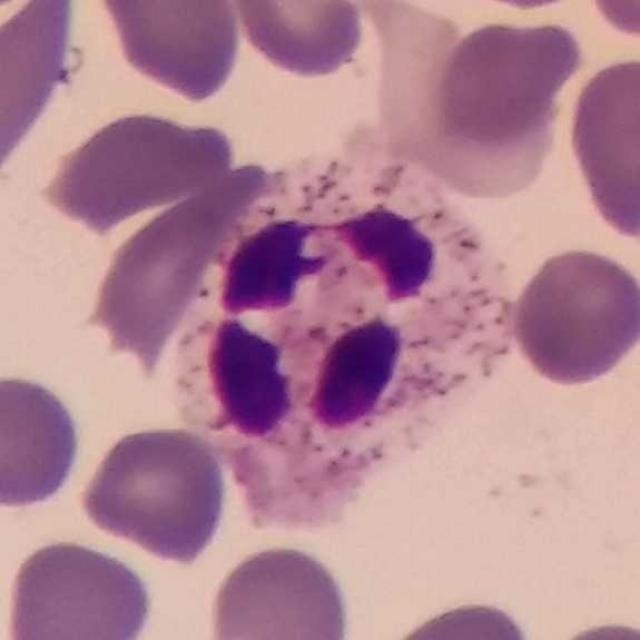Neutrophil: (181, 161, 532, 523)
RBC: (85, 166, 275, 373), (36, 105, 238, 232), (422, 13, 586, 155), (76, 421, 232, 565), (507, 241, 640, 389), (0, 0, 91, 198), (90, 0, 246, 106), (1, 535, 158, 640), (562, 48, 640, 251), (202, 538, 356, 640), (0, 368, 87, 514), (222, 0, 368, 81), (373, 594, 541, 640), (582, 0, 640, 46), (540, 614, 640, 640)
